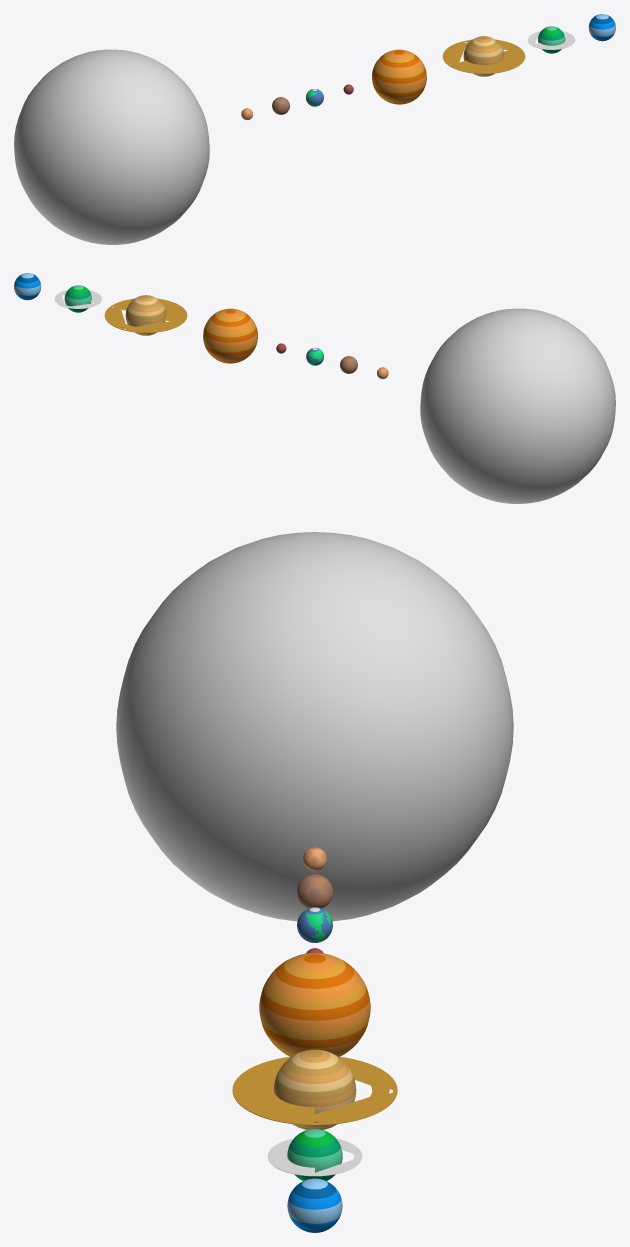
The model's file is Solar_System_Planets.fbx.
3 views of the same model, one above another, from view 1: azimuth 30°, elevation 25°; view 2: azimuth 150°, elevation 25°; view 3: azimuth 270°, elevation 25° (orthographic). The views are drawn at different scales.
Parts seen in each view (by area): view 1: Sun, Jupiter, Saturn, Uranus, Neptune; view 2: Sun, Jupiter, Saturn, Uranus, Neptune; view 3: Sun, Saturn, Jupiter, Uranus, Neptune, Earth, Venus.
Part boxes in pixels (bbox=[...]): Sun: bbox=[14, 49, 209, 244]; Jupiter: bbox=[372, 49, 426, 104]; Saturn: bbox=[442, 36, 525, 76]; Uranus: bbox=[528, 26, 575, 53]; Neptune: bbox=[588, 14, 615, 41]; Sun: bbox=[420, 308, 615, 503]; Jupiter: bbox=[203, 308, 257, 363]; Saturn: bbox=[104, 295, 187, 335]; Uranus: bbox=[54, 285, 101, 312]; Neptune: bbox=[14, 273, 41, 300]; Sun: bbox=[116, 532, 513, 921]; Saturn: bbox=[232, 1049, 397, 1129]; Jupiter: bbox=[259, 953, 370, 1056]; Uranus: bbox=[267, 1129, 362, 1180]; Neptune: bbox=[287, 1178, 342, 1232]; Earth: bbox=[297, 907, 332, 942]; Venus: bbox=[297, 874, 332, 908].
Bounding box in the file's own units: 34696 × 10000 × 10177.
